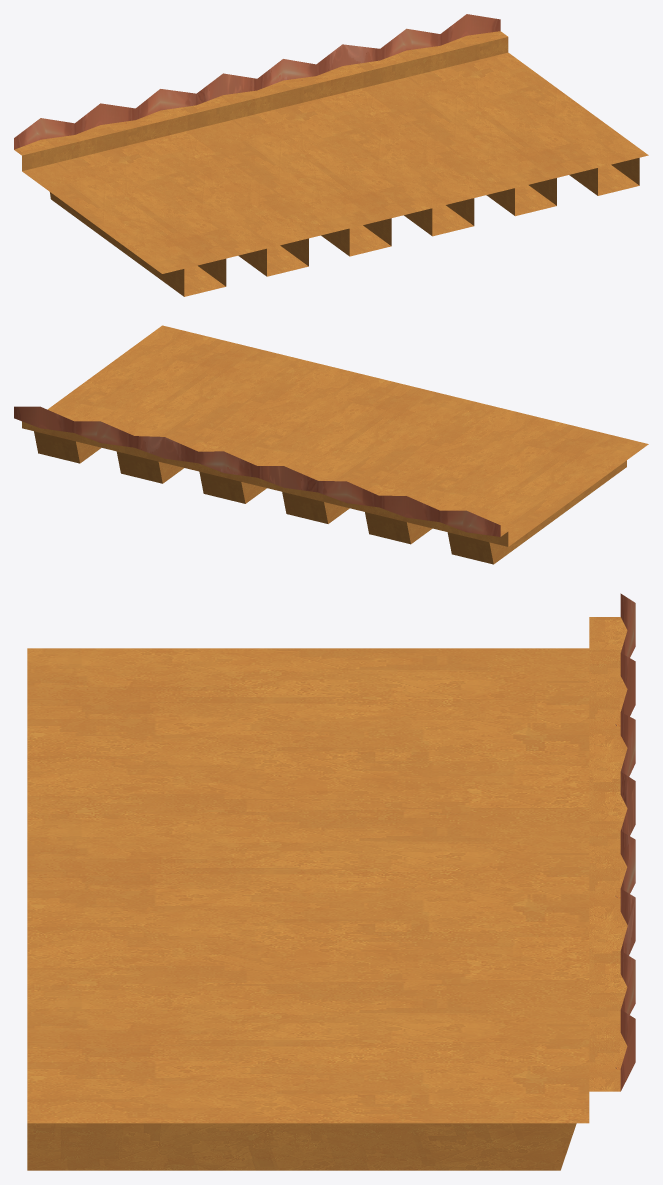
Rendered from RoofEdge.fbx.
3 views of the same model, one above another, from view 1: azimuth 30°, elevation 25°; view 2: azimuth 150°, elevation 25°; view 3: azimuth 270°, elevation 25° (orthographic). The views are drawn at different scales.
Visible parts, largest first — view 1: RoofEdge, RoofEdge_underside; view 2: RoofEdge, RoofEdge_underside; view 3: RoofEdge, RoofEdge_underside.
Part boxes in pixels (x1,y1,x2,y2): RoofEdge: (14, 14, 648, 273); RoofEdge_underside: (50, 158, 639, 296); RoofEdge: (14, 325, 648, 546); RoofEdge_underside: (34, 431, 626, 564); RoofEdge: (27, 593, 635, 1123); RoofEdge_underside: (27, 1123, 576, 1170).
Size of the model in its own units: 2 by 1.08 by 0.2577.
